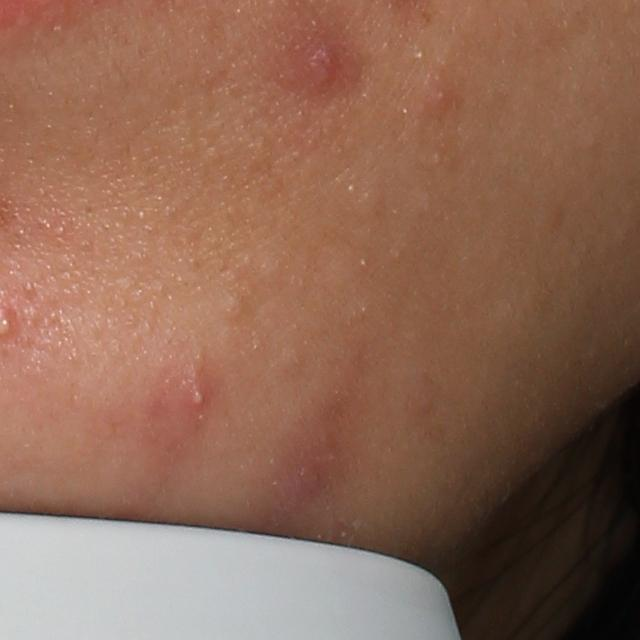pustule: (187, 383, 213, 412)
